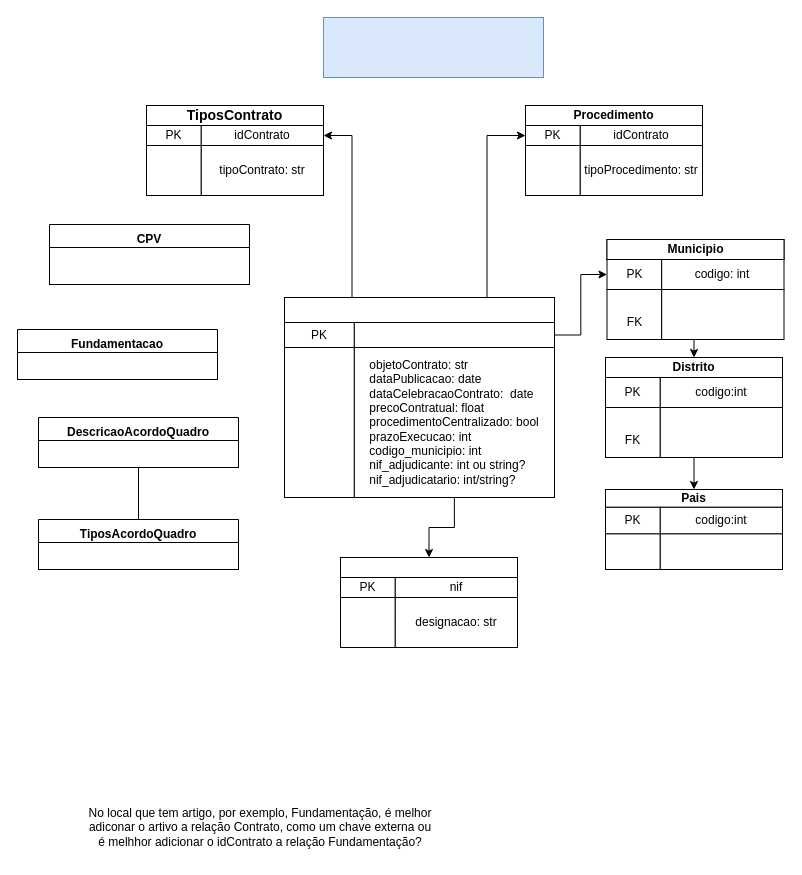
Image size: 802x875. Some labels were removed from this diagram. Each missing label, with the centre of its shape:
"codigoCPV: str descricao: str" belongs at (149,265).
"Contrato" belongs at (419,309).
"descricaoAcordoContrato: str" belongs at (138,556).
"Diagrama RELACIONAL Contratos públicos" belongs at (433,47).
"Entidade" belongs at (429,567).
"FK1 FK2 FK3" belongs at (319,422).
"fundamentacao: str" belongs at (117,366).
"idContrato: id" belongs at (453,335).
"nome: str" belongs at (720,551).
"nome: str distrito: int" belongs at (722,314).
"nome: str pais: int" belongs at (720,432).
